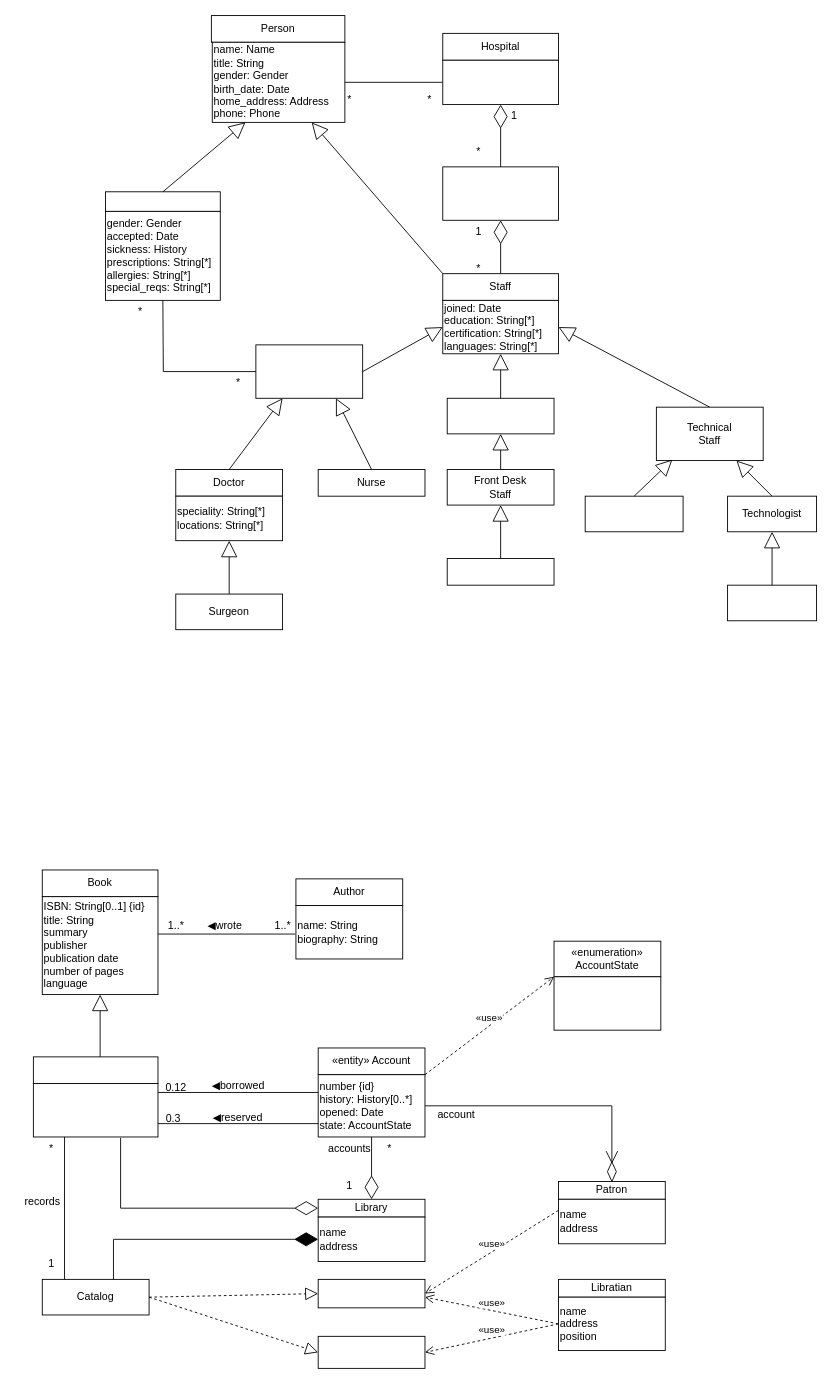
Some shapes in this 832 by 1384 pixel diagram are drawn without their labels. Each missing label, with the centre of its shape:
"Active Frozen Closed" goes at pixel 607 1003.
"Administrative Staff" goes at pixel 500 415.
"barcode: String[0..1]{id} tag: RFID [0..1] {id} isReferenceOnly" goes at pixel 95 1110.
"Department" goes at pixel 500 193.
"name: String{id} address: Address phone: Phone" goes at pixel 500 82.
"Operations Staff" goes at pixel 309 371.
"Patient" goes at pixel 162 201.
"Receptionist" goes at pixel 500 571.
"Surgical Technologist" goes at pixel 772 602.
"Technician" goes at pixel 633 513.
"«entity» Book Item" goes at pixel 95 1070.
"«interface» Manage" goes at pixel 371 1351.
"«interface» Search" goes at pixel 371 1293.
